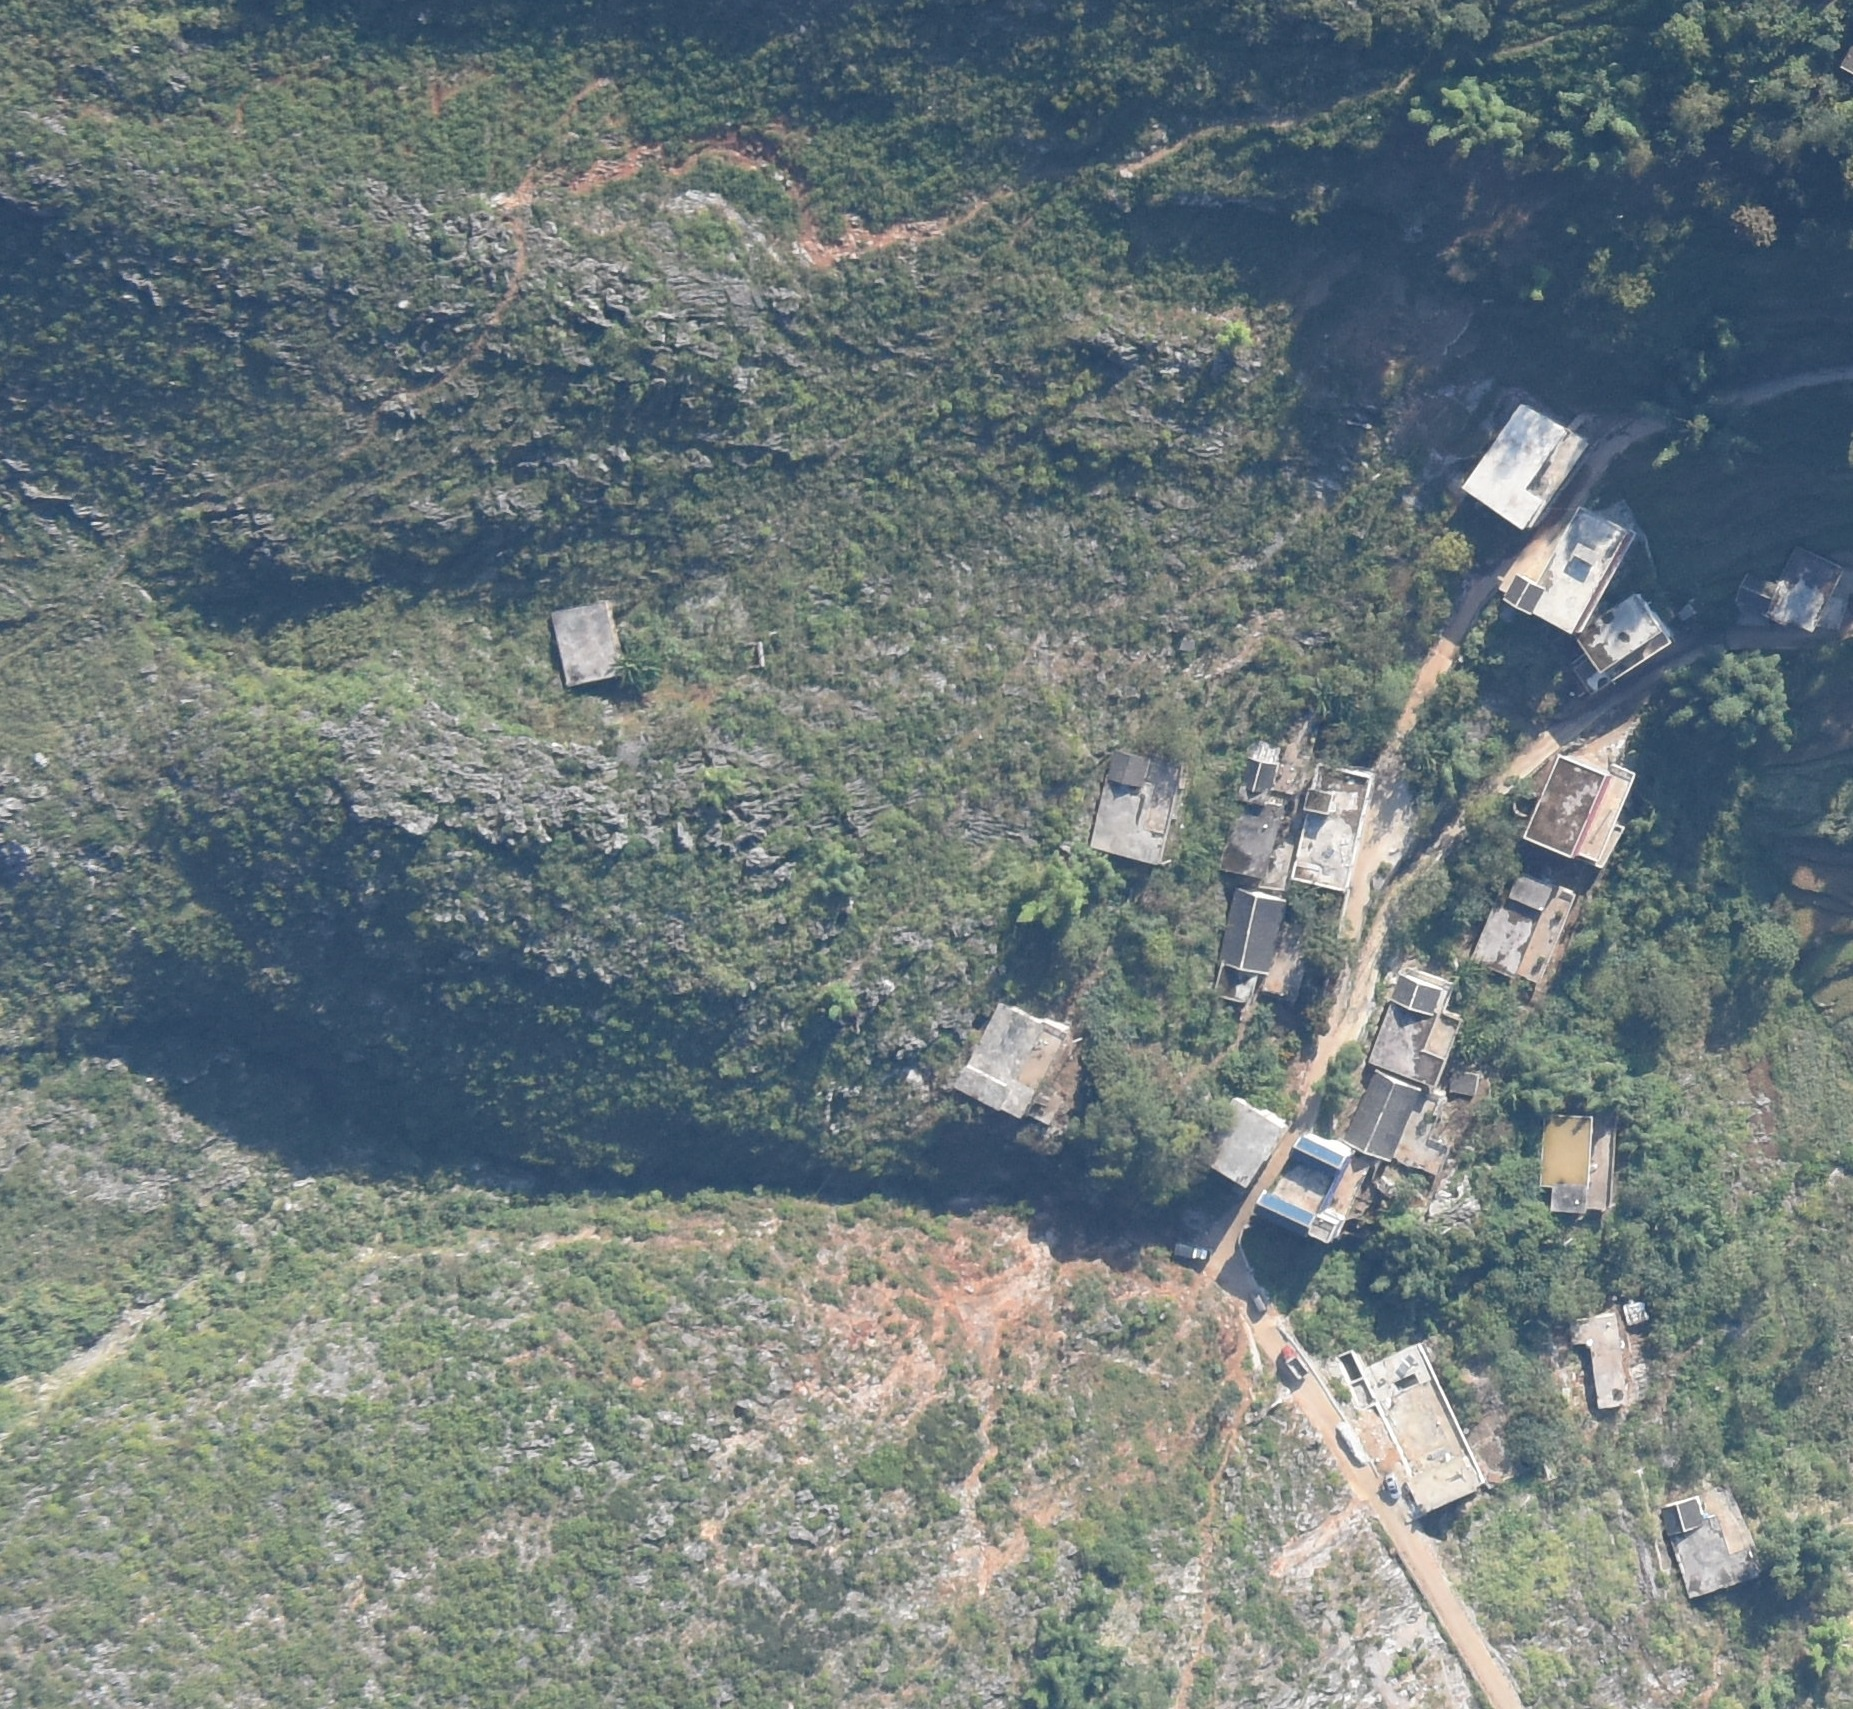building: (1336, 1347, 1483, 1510), (1501, 505, 1632, 633), (1461, 395, 1582, 532), (952, 998, 1072, 1123), (1256, 1132, 1371, 1240), (1522, 762, 1634, 867), (1469, 877, 1573, 986), (1082, 753, 1184, 862), (1368, 970, 1462, 1087), (1665, 1487, 1759, 1596), (1292, 765, 1372, 888), (1734, 548, 1837, 632), (1538, 1111, 1619, 1212), (1216, 888, 1284, 1005), (1574, 600, 1672, 680), (544, 600, 629, 687), (1206, 1094, 1283, 1189), (1342, 1076, 1423, 1163), (1565, 1313, 1627, 1409), (1226, 807, 1284, 877), (1244, 737, 1281, 797)
vehicle: (1281, 1343, 1312, 1381), (1171, 1243, 1212, 1264), (1382, 1471, 1403, 1501), (1248, 1286, 1268, 1317)
